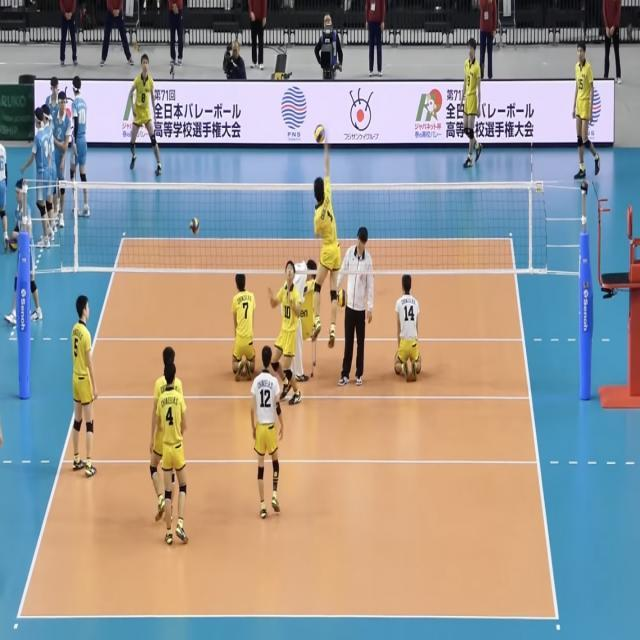spike: (300, 119, 352, 356)
